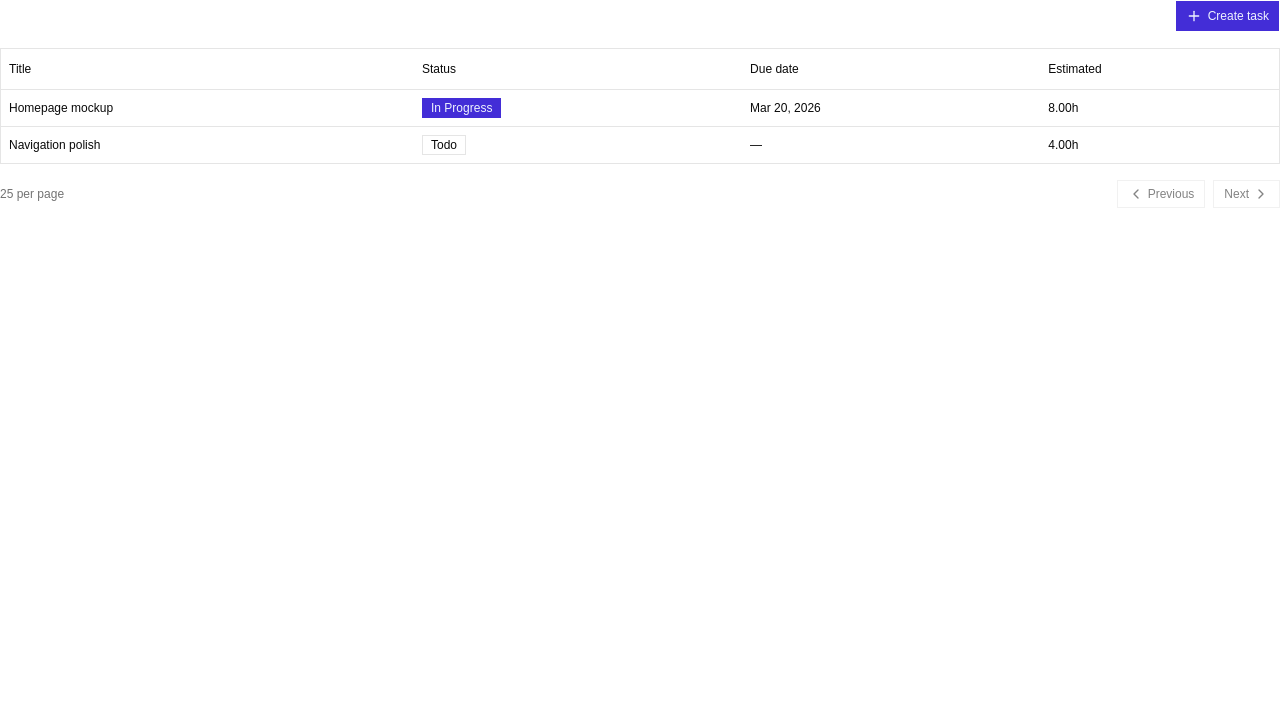
ProjectTasksTab › opens create dialog from tab action
Expected: the text "Homepage mockup" is shown, x1=1 y1=89 x2=414 y2=126
Click the button "Create task" at [1227, 16], box x1=1175 y1=0 x2=1279 y2=32
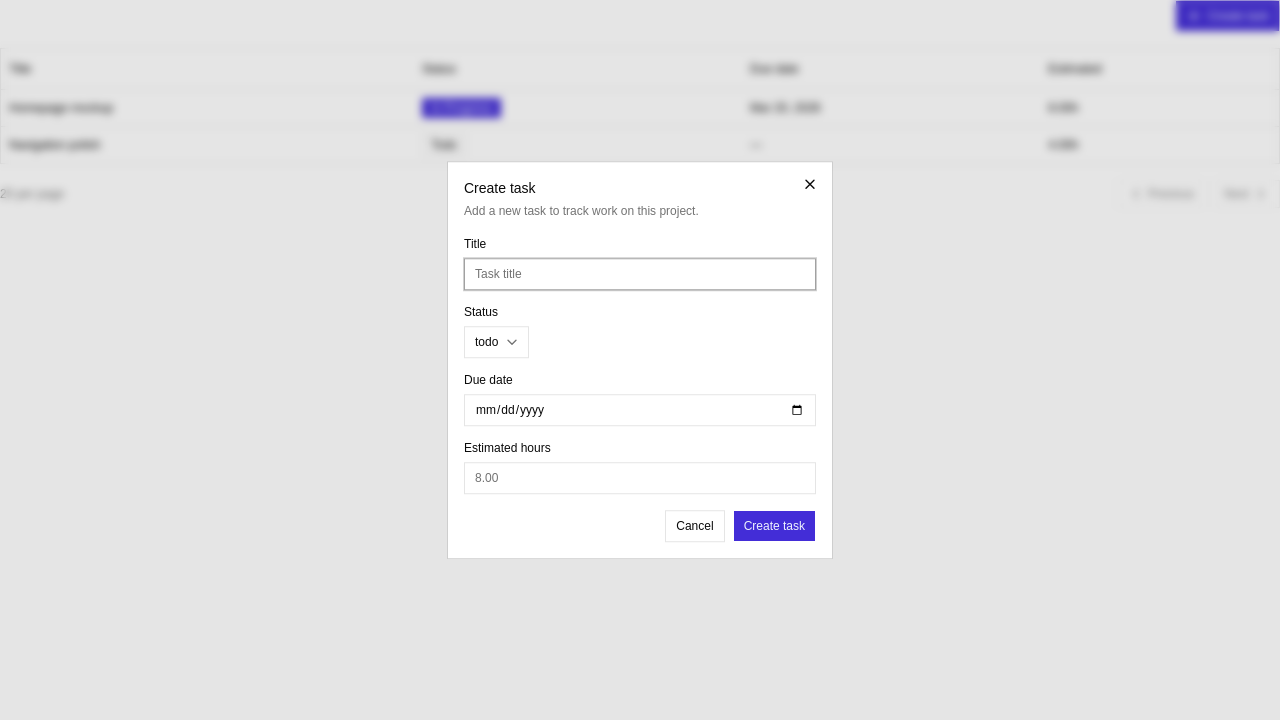
Expected: the heading "Create task" is shown, x1=464 y1=180 x2=536 y2=196
